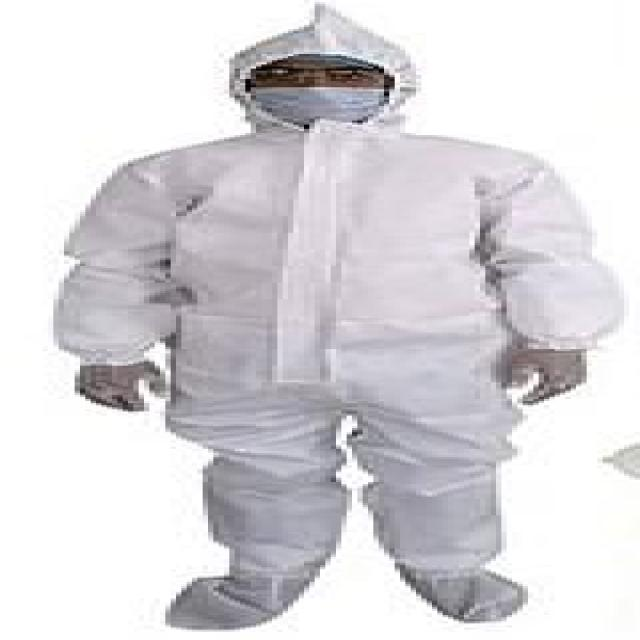Coverall: (32, 0, 635, 640)
Goggles: (219, 56, 400, 92)
Mask: (214, 73, 486, 137)
